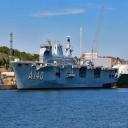Portanaves: (11, 31, 121, 92)
